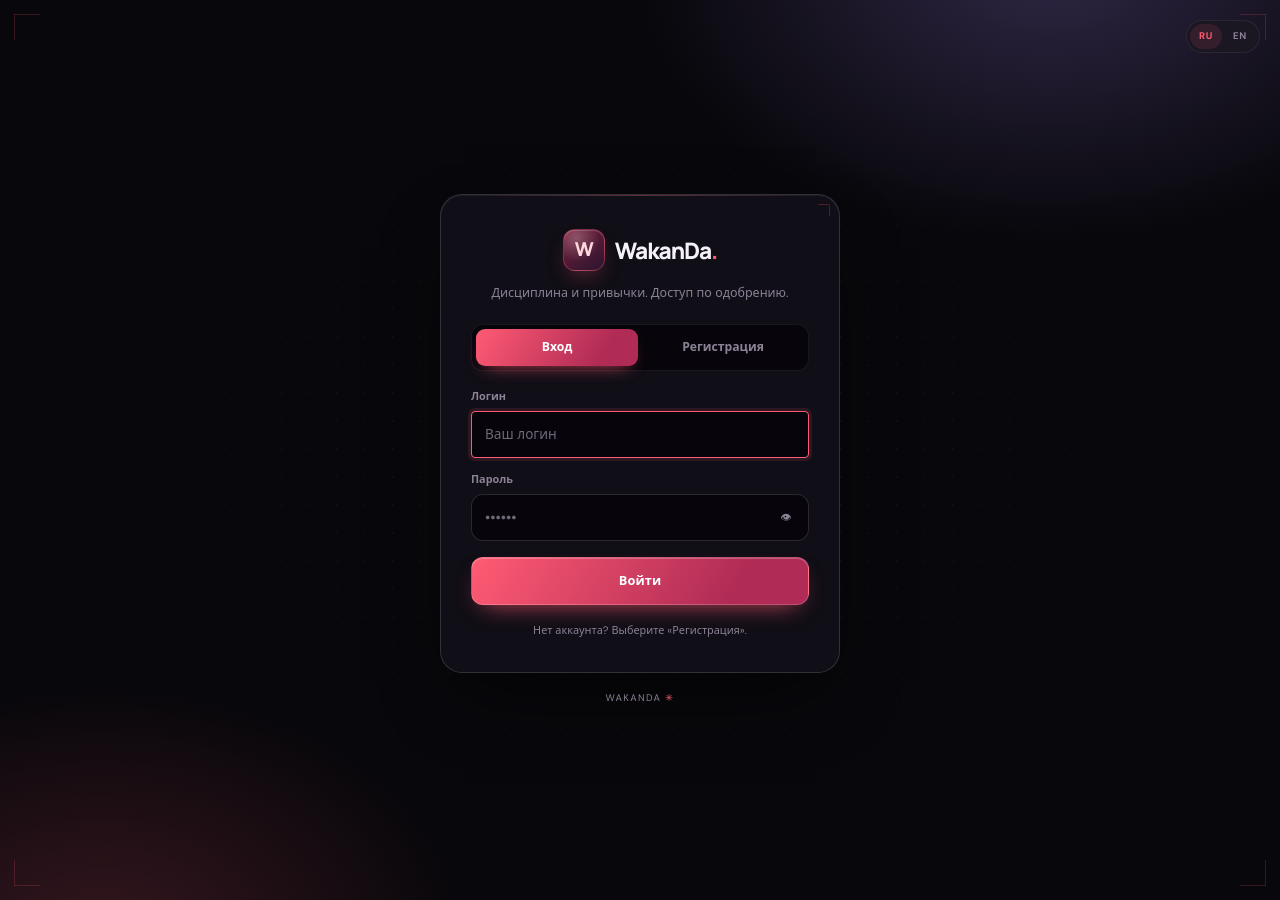
Test: AuthScreen › при пустых полях показывает ошибку и не дёргает сервер
Click the button "Войти".
click(640, 581)  # box left=471, top=557, right=809, bottom=604
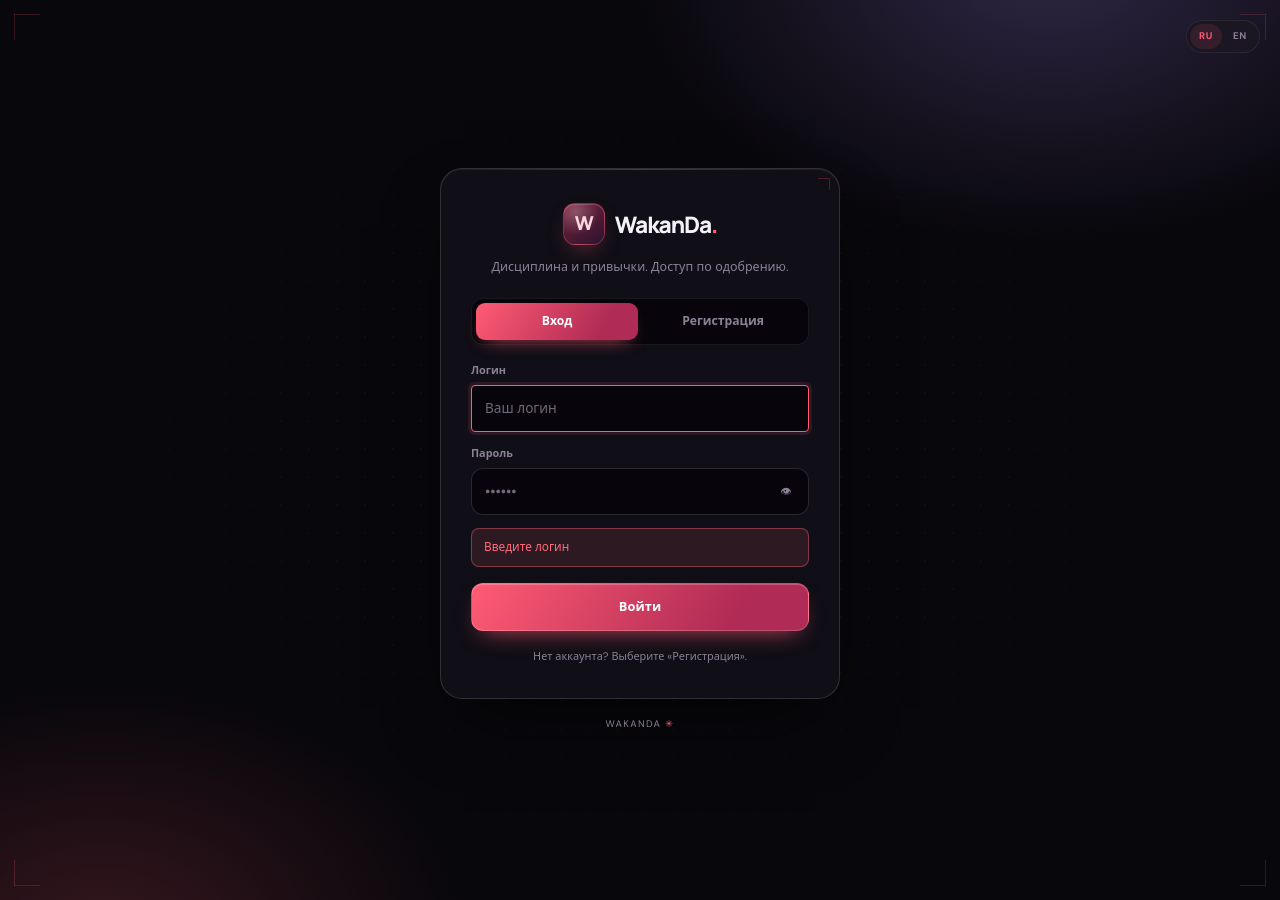
Expected: the message reads "Введите логин", left=484, top=539, right=569, bottom=555
